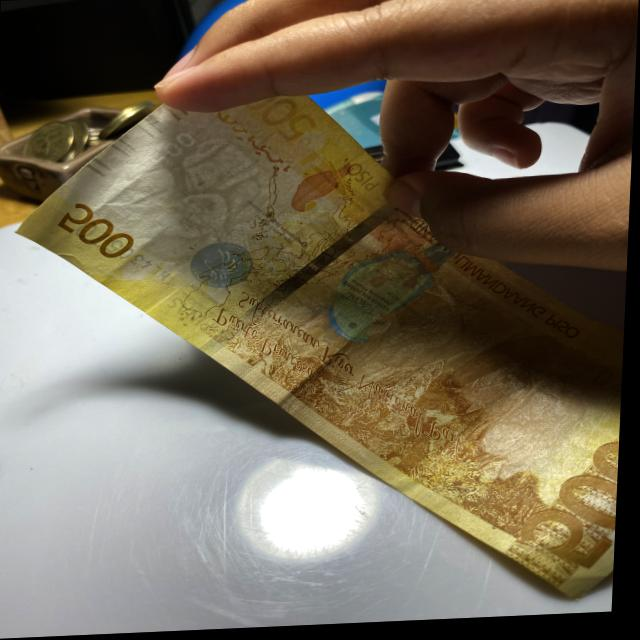500_big_parrot: (332, 243, 458, 342)
500_parrot_watermark: (286, 166, 364, 217)
value_watermark: (142, 133, 205, 165)
watermark: (119, 146, 268, 258)
